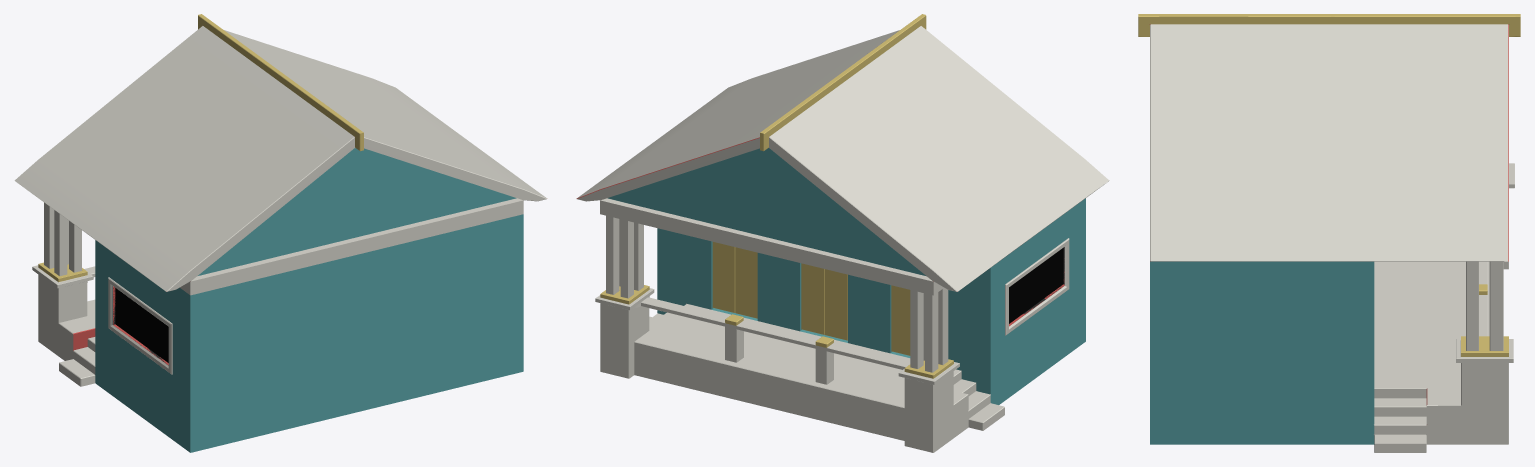
Rendered from Enviro_Building_CreoleHouse2_Untextured.fbx.
3 renders of one model, left to right at view 1: azimuth 30°, elevation 25°; view 2: azimuth 150°, elevation 25°; view 3: azimuth 270°, elevation 25°, orthographic. The views are drawn at different scales.
Visible parts, largest first — view 1: Bungalow_Main, Windowframe; view 2: Bungalow_Main, Door3, Door2, Door, Door1, Door5, Windowframe; view 3: Bungalow_Main.
Boxes of the visible parts, bbox=[...] form: Bungalow_Main: bbox=[14, 14, 547, 452]; Windowframe: bbox=[108, 277, 172, 374]; Bungalow_Main: bbox=[576, 14, 1109, 452]; Door3: bbox=[801, 263, 824, 334]; Door2: bbox=[824, 269, 847, 340]; Door: bbox=[712, 242, 735, 312]; Door1: bbox=[735, 247, 757, 318]; Door5: bbox=[891, 285, 910, 355]; Windowframe: bbox=[1005, 238, 1069, 335]; Bungalow_Main: bbox=[1138, 14, 1520, 452].
Bounding box in the file's own units: 11.97 × 8.48 × 8.81.
